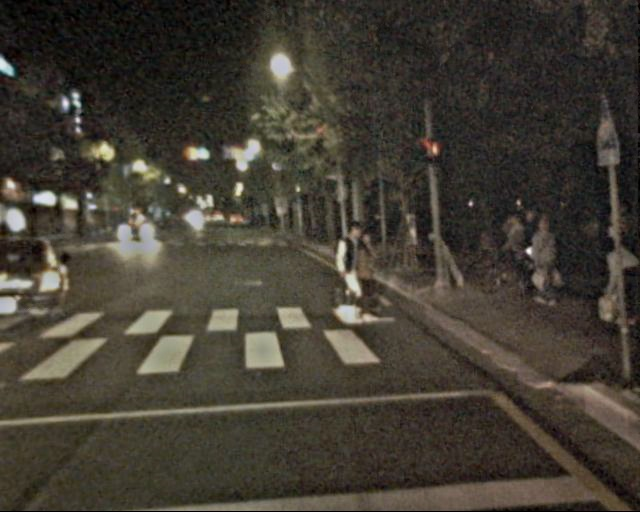person: (506, 209, 561, 295), (331, 223, 372, 324), (596, 231, 637, 330), (587, 209, 626, 304), (525, 219, 563, 311), (351, 225, 388, 316)
